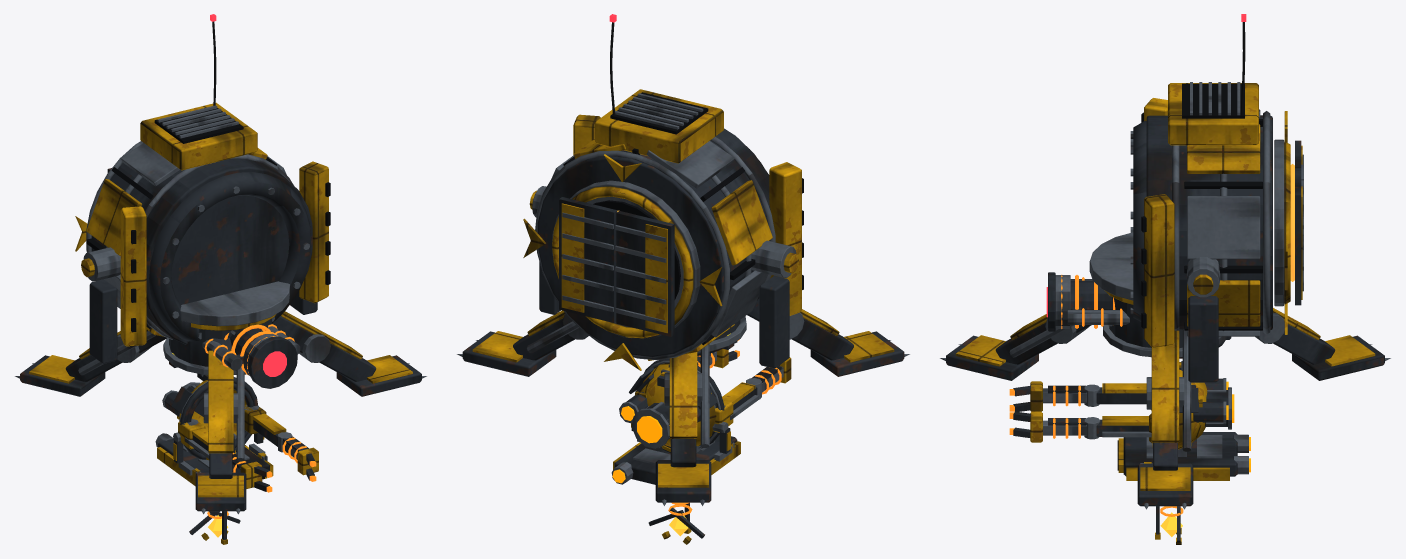
The model's file is end2-char-extras-kit.glb.
3 renders of one model, left to right at view 1: azimuth 30°, elevation 25°; view 2: azimuth 150°, elevation 25°; view 3: azimuth 270°, elevation 25°, orthographic. The views are drawn at different scales.
Visible parts, largest first — view 1: head_def_gunmetal, head_def_yellow, collar_def_gunmetal, head_def_steel, base_def_steel, leg_0_def_yellow, leg_2_def_gunmetal, head_def_dark, projector_def_gunmetal, leg_1_def_gunmetal, leg_0_def_gunmetal, body.001_def_gunmetal (+13 smaller); view 2: head_def_yellow, head_def_gunmetal, head_def_steel, shutter_l_def_gunmetal, leg_1_def_yellow, shutter_r_def_gunmetal, leg_0_def_gunmetal, head_def_dark, leg_2_def_gunmetal, shutter_r_def_yellow, shutter_l_def_yellow, leg_1_def_gunmetal (+13 smaller); view 3: head_def_yellow, head_def_steel, head_def_gunmetal, leg_2_def_yellow, head_def_dark, base_def_steel, leg_1_def_gunmetal, leg_0_def_gunmetal, collar_def_gunmetal, body_def_gunmetal, leg_2_def_gunmetal, projector_def_steel (+18 smaller).
Part boxes in pixels (left/top/right/bottom): head_def_gunmetal: left=89, top=158, right=317, bottom=363; head_def_yellow: left=75, top=102, right=328, bottom=346; collar_def_gunmetal: left=149, top=172, right=311, bottom=341; head_def_steel: left=83, top=105, right=293, bottom=339; base_def_steel: left=163, top=281, right=289, bottom=374; leg_0_def_yellow: left=198, top=350, right=243, bottom=497; leg_2_def_gunmetal: left=272, top=316, right=421, bottom=396; head_def_dark: left=86, top=108, right=330, bottom=332; projector_def_gunmetal: left=230, top=328, right=297, bottom=388; leg_1_def_gunmetal: left=20, top=330, right=166, bottom=396; leg_0_def_gunmetal: left=195, top=338, right=246, bottom=511; body.001_def_gunmetal: left=164, top=377, right=263, bottom=463; head_def_yellow: left=523, top=89, right=801, bottom=370; head_def_gunmetal: left=537, top=128, right=789, bottom=368; head_def_steel: left=532, top=93, right=796, bottom=360; shutter_l_def_gunmetal: left=616, top=211, right=674, bottom=336; leg_1_def_yellow: left=658, top=352, right=708, bottom=487; shutter_r_def_gunmetal: left=559, top=197, right=617, bottom=322; leg_0_def_gunmetal: left=747, top=298, right=904, bottom=376; head_def_dark: left=563, top=92, right=803, bottom=345; leg_2_def_gunmetal: left=462, top=318, right=575, bottom=376; shutter_r_def_yellow: left=561, top=203, right=584, bottom=312; shutter_l_def_yellow: left=645, top=224, right=667, bottom=333; leg_1_def_gunmetal: left=655, top=438, right=711, bottom=502; head_def_yellow: left=1144, top=83, right=1290, bottom=347; head_def_steel: left=1172, top=82, right=1284, bottom=336; head_def_gunmetal: left=1146, top=115, right=1272, bottom=382; leg_2_def_yellow: left=1140, top=330, right=1190, bottom=490; head_def_dark: left=1141, top=83, right=1262, bottom=330; base_def_steel: left=1089, top=232, right=1226, bottom=357; leg_1_def_gunmetal: left=1273, top=324, right=1384, bottom=380; leg_0_def_gunmetal: left=946, top=322, right=1091, bottom=380; collar_def_gunmetal: left=1133, top=120, right=1146, bottom=321; body_def_gunmetal: left=1123, top=367, right=1237, bottom=476; leg_2_def_gunmetal: left=1137, top=442, right=1193, bottom=506; projector_def_steel: left=1055, top=275, right=1129, bottom=328.
Bounding box in the file's own units: 3.16 × 4.71 × 3.58.
12 materials, 3 textured.
